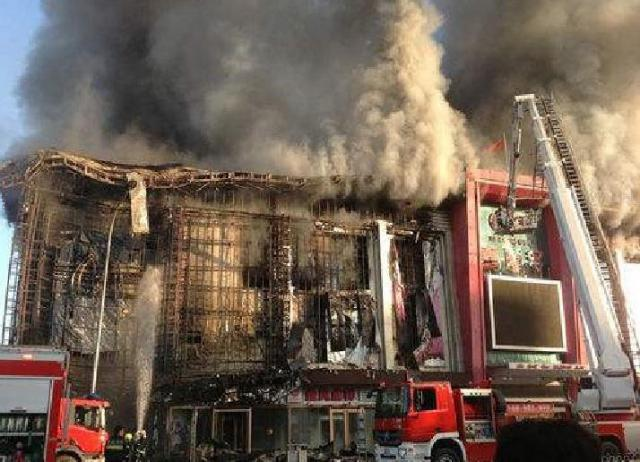smoke: (163, 0, 469, 199), (478, 0, 636, 179), (22, 1, 160, 160), (586, 186, 632, 252)
